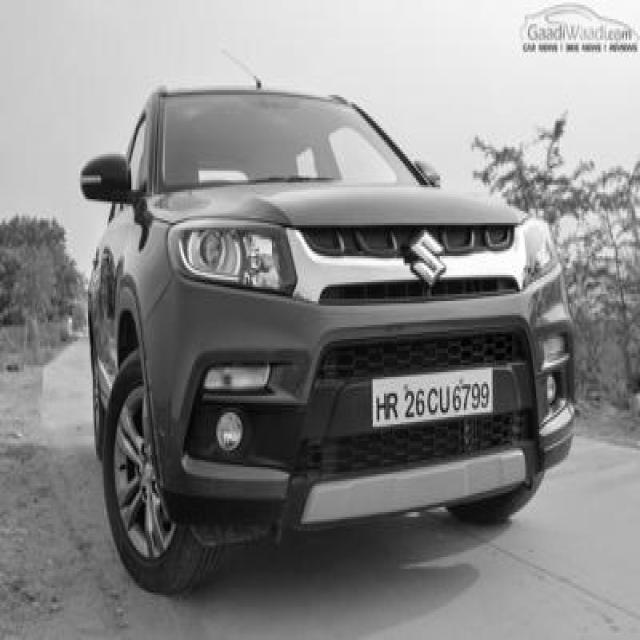car: (83, 73, 579, 600)
license-plate: (368, 370, 498, 434)
